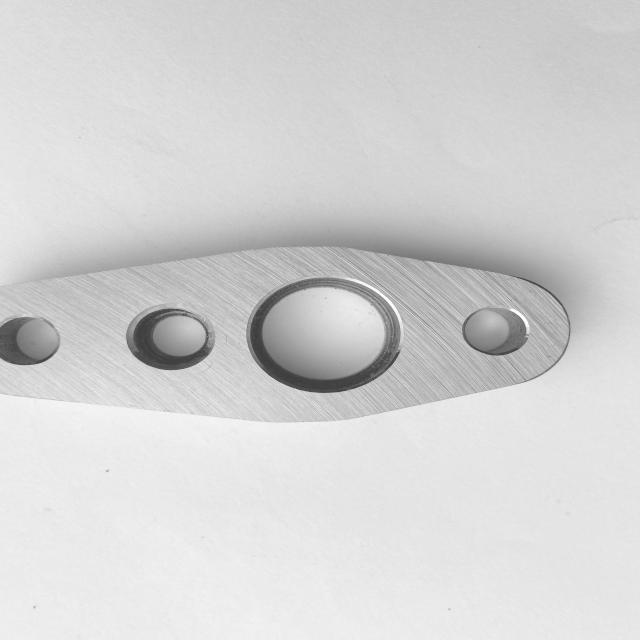lines: (200, 362, 220, 376), (223, 332, 229, 349)
